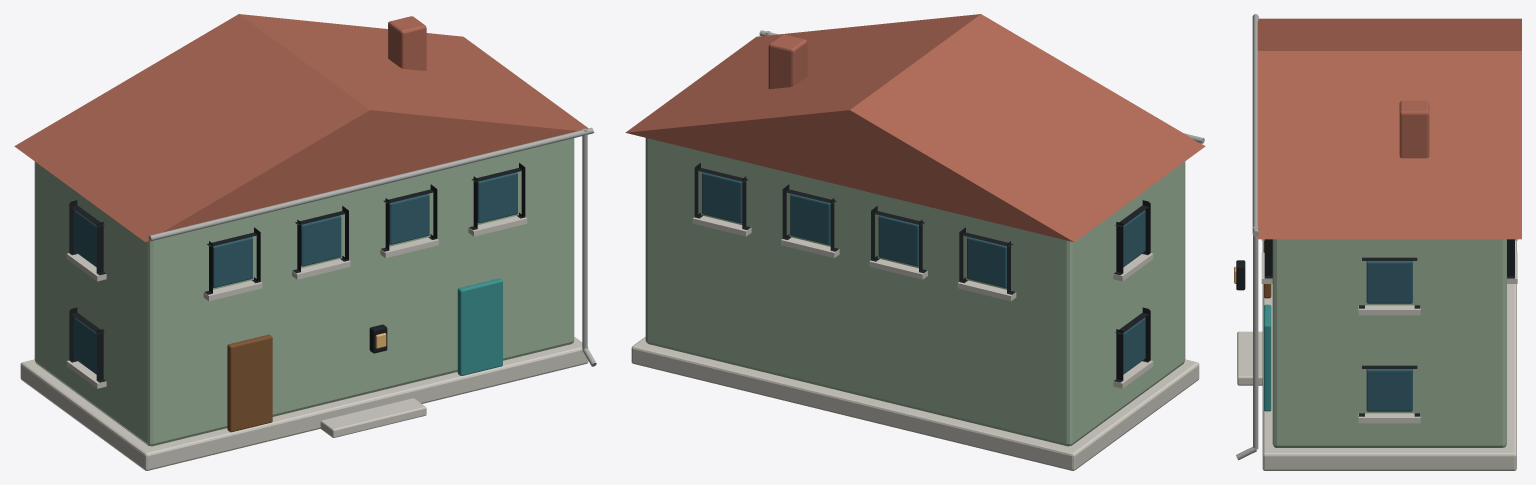
The model's file is RES_LOW_2x1_007.glb.
3 renders of one model, left to right at view 1: azimuth 30°, elevation 25°; view 2: azimuth 150°, elevation 25°; view 3: azimuth 270°, elevation 25°, orthographic.
Parts seen in each view (by area): view 1: RES_LOW_2x1_007_Visual; view 2: RES_LOW_2x1_007_Visual; view 3: RES_LOW_2x1_007_Visual.
Part boxes in pixels (<box>): RES_LOW_2x1_007_Visual: <box>14,14,596,470</box>; RES_LOW_2x1_007_Visual: <box>625,14,1205,470</box>; RES_LOW_2x1_007_Visual: <box>1234,14,1521,470</box>.
Size of what is drawn, in the model's own units: 3.15 by 2.09 by 1.74.
